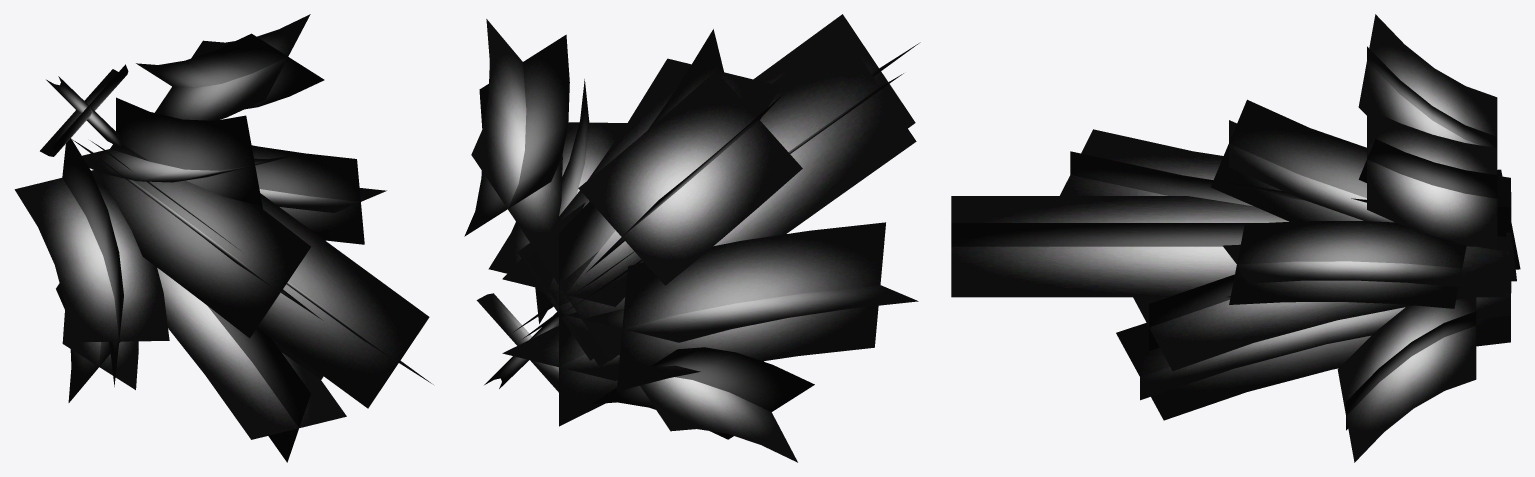
File: vfx_kurp_0055.dae
3 views of the same model, side by side, from view 1: azimuth 30°, elevation 25°; view 2: azimuth 150°, elevation 25°; view 3: azimuth 270°, elevation 25° (orthographic). The views are drawn at different scales.
Parts seen in each view (by area): view 1: vfx_kurp_0055; view 2: vfx_kurp_0055; view 3: vfx_kurp_0055.
Boxes of the visible parts, box(x1,y1,x2,y2) form: vfx_kurp_0055: box(14, 14, 433, 462); vfx_kurp_0055: box(464, 14, 920, 462); vfx_kurp_0055: box(951, 14, 1520, 462).
Size of the model in its own units: 6.56 by 10.03 by 6.71.
1 material, 1 textured.
